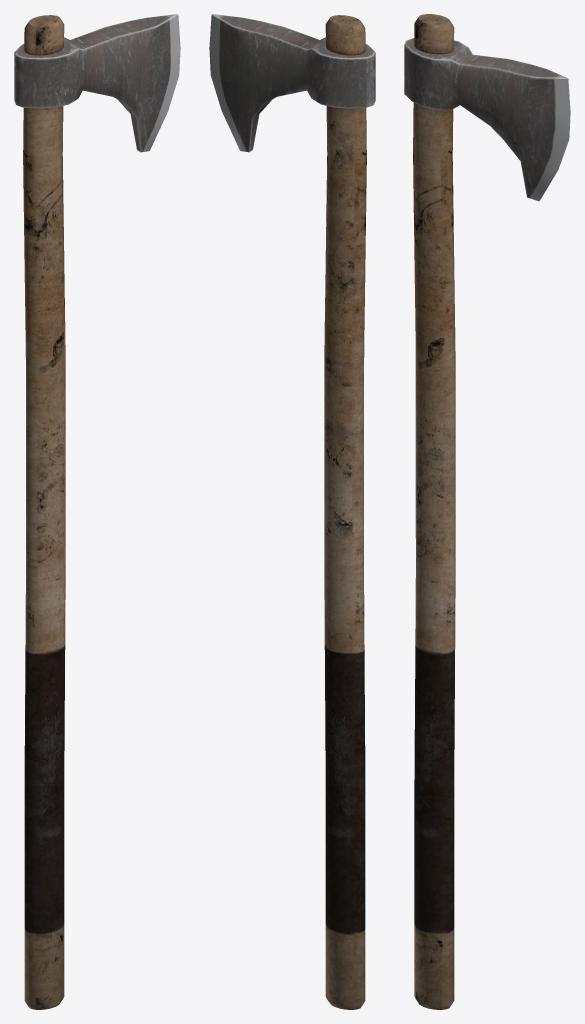
The model's file is cc0-melee-weapons-pack-glb--twohandedaxe.glb.
The picture shows the model from 3 angles, left to right: view 1: azimuth 30°, elevation 25°; view 2: azimuth 150°, elevation 25°; view 3: azimuth 330°, elevation 25°; orthographic projection.
Parts seen in each view (by area): view 1: Two_Handed_Axe; view 2: Two_Handed_Axe; view 3: Two_Handed_Axe.
Boxes of the visible parts, x1,y1,x2,y2 form: Two_Handed_Axe: (14, 14, 180, 1009); Two_Handed_Axe: (209, 14, 375, 1009); Two_Handed_Axe: (404, 14, 570, 1009).
Bounding box in the file's own units: 0.1808 × 1.04 × 0.0476.
Materials: 1 (1 with a texture image).
